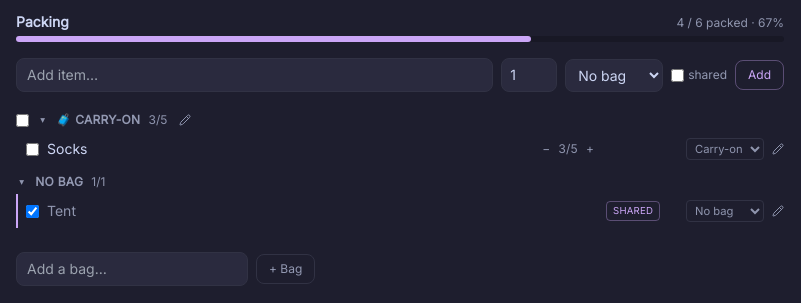
PackingList › collapses a bag group, hiding its items
Expected: the text "Socks" is shown, [47, 140, 88, 157]
Step 1. Click the text "🧳 Carry-on" → (98, 120), box [56, 112, 140, 128]
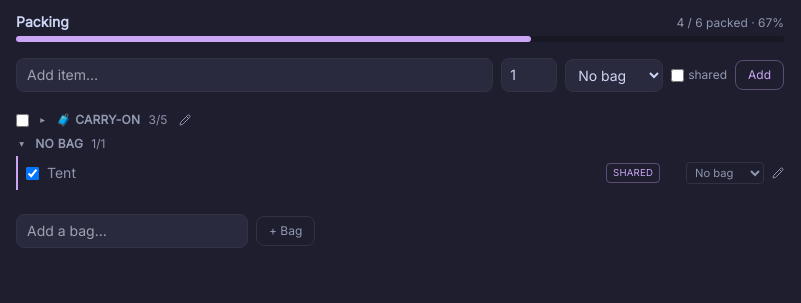
Expected: the text "Tent" is shown, [47, 164, 76, 181]
Expected: the text "Socks" is gone
